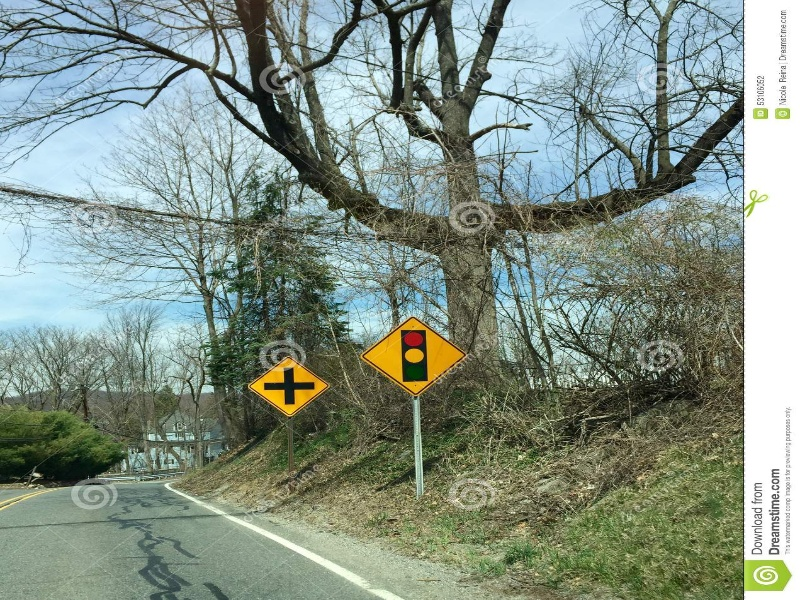traffic signal sign: (358, 315, 469, 397)
